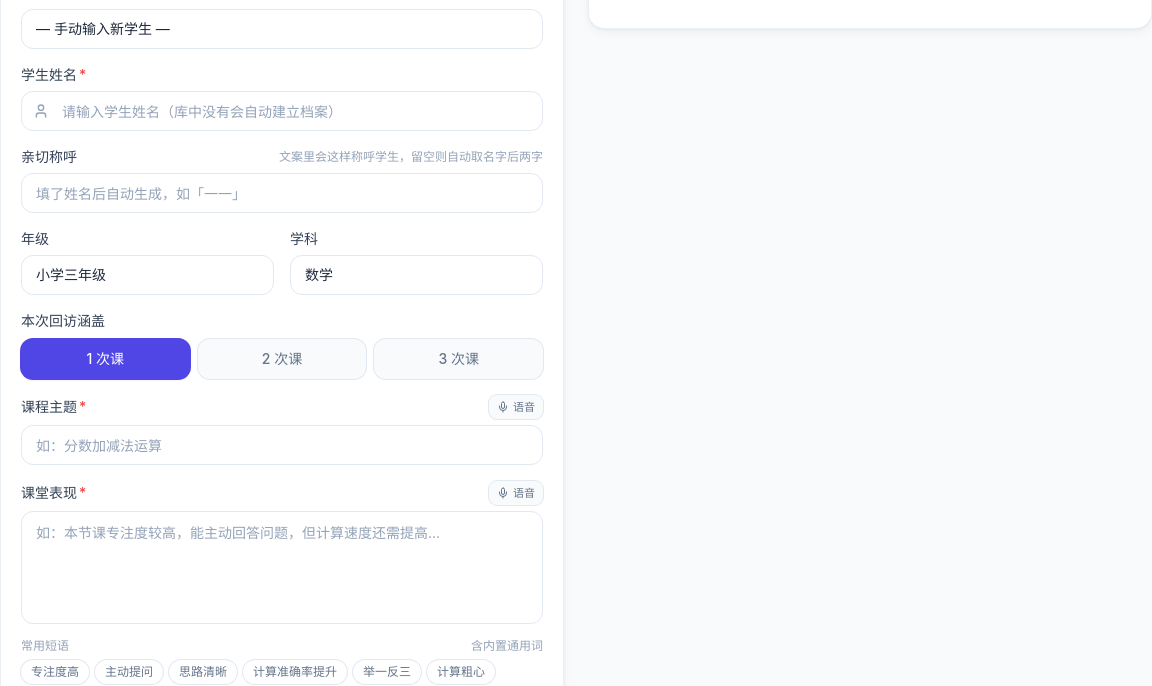
Test: 课后回访 · 课次选择器 › 2 次课提示文案数字正确
(page scrolled)
What coordinates should you click on to do the following:
click the button "2 次课"
I would click on:
 (282, 359)
Its box is [198,339,366,379].
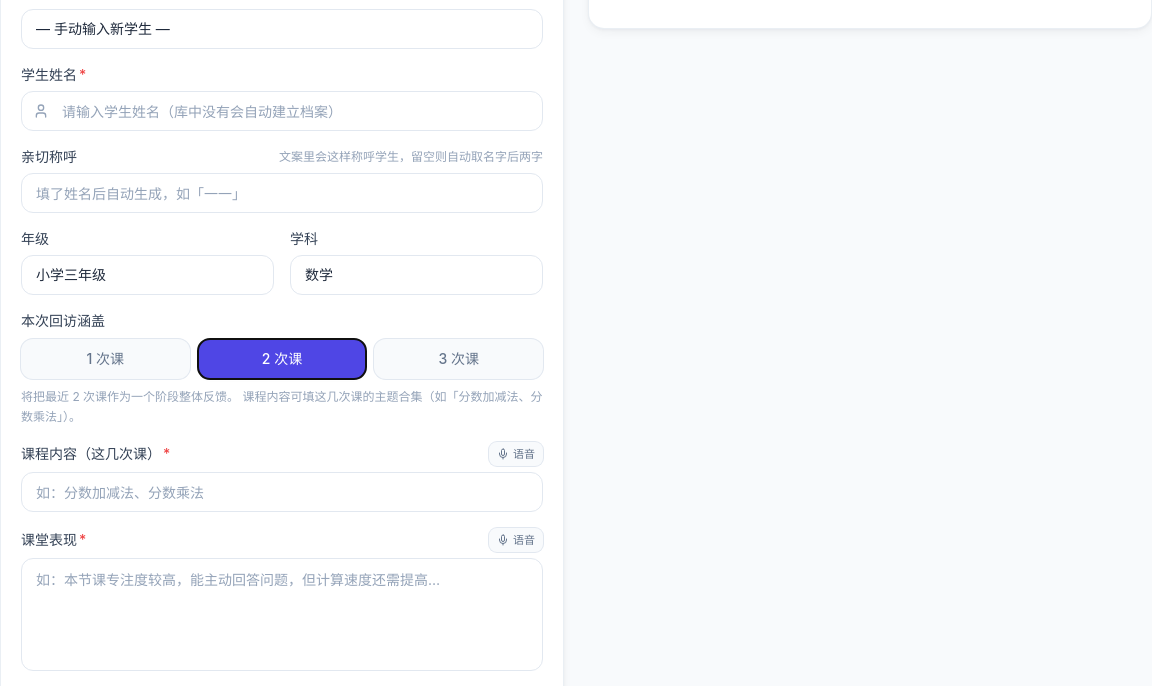
Now the text "将把最近 2 次课作为一个阶段整体反馈。 课程内容可填这几次课的主题合集（如「分数加减法、分数乘法」）。" is shown, box [21,387,543,426]
